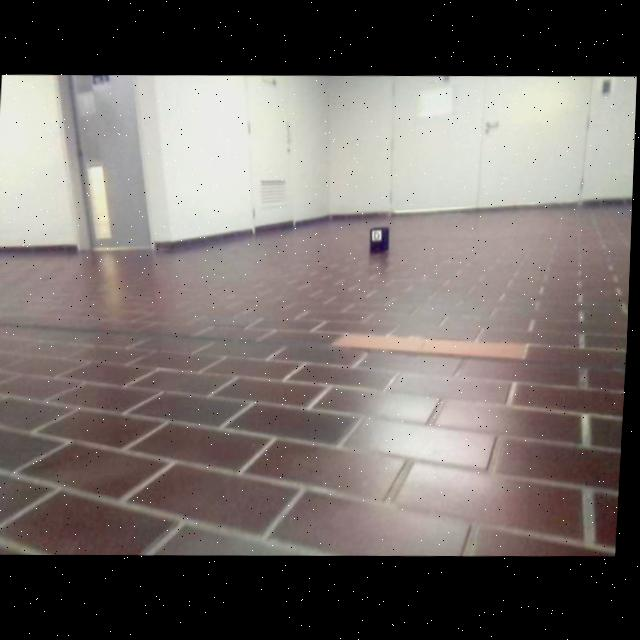D: (374, 232, 381, 241)
